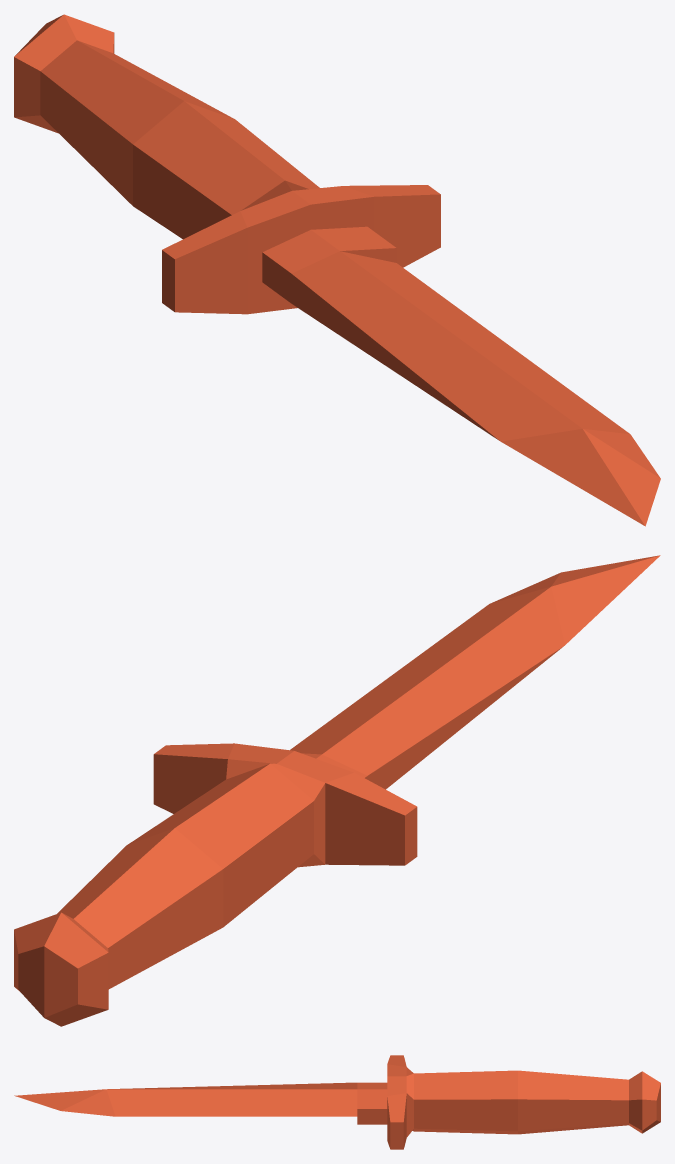
Rendered from knife.fbx.
3 views of the same model, one above another, from view 1: azimuth 30°, elevation 25°; view 2: azimuth 150°, elevation 25°; view 3: azimuth 270°, elevation 25° (orthographic). The views are drawn at different scales.
Parts seen in each view (by area): view 1: knife; view 2: knife; view 3: knife.
Boxes of the visible parts, left/top/right/bottom form: knife: left=14, top=14, right=660, bottom=526; knife: left=14, top=555, right=660, bottom=1026; knife: left=14, top=1055, right=660, bottom=1149.
Bounding box in the file's own units: 0.0816 × 0.0363 × 0.3328.
